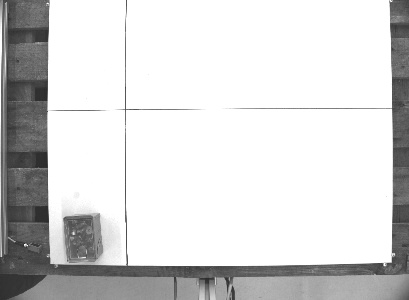kltxs: (61, 211, 105, 264)
